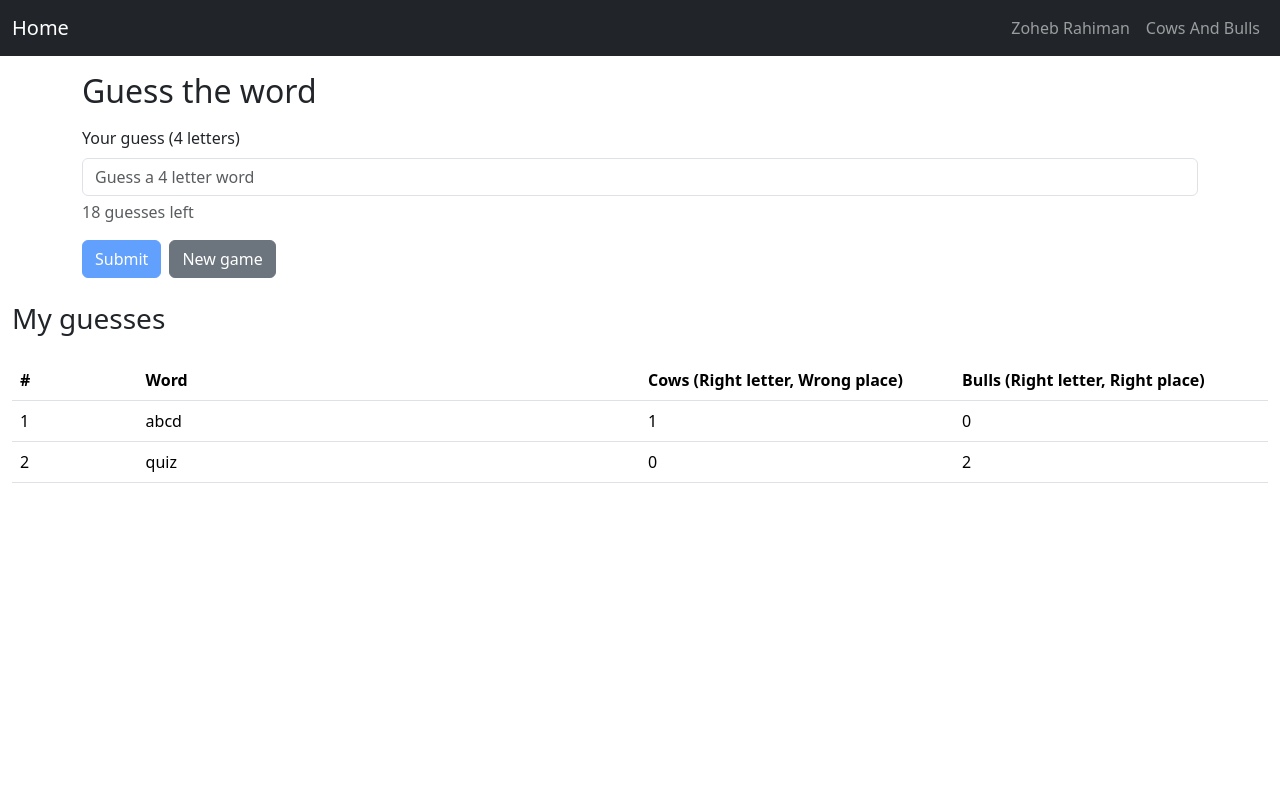
accessibility › puts focus back in the input after a rejected guess, so it can be corrected
Type "qqqq" into the field labelled "Your guess (4 letters)".
click(640, 177); type("qqqq")  # box [82,158,1198,196]
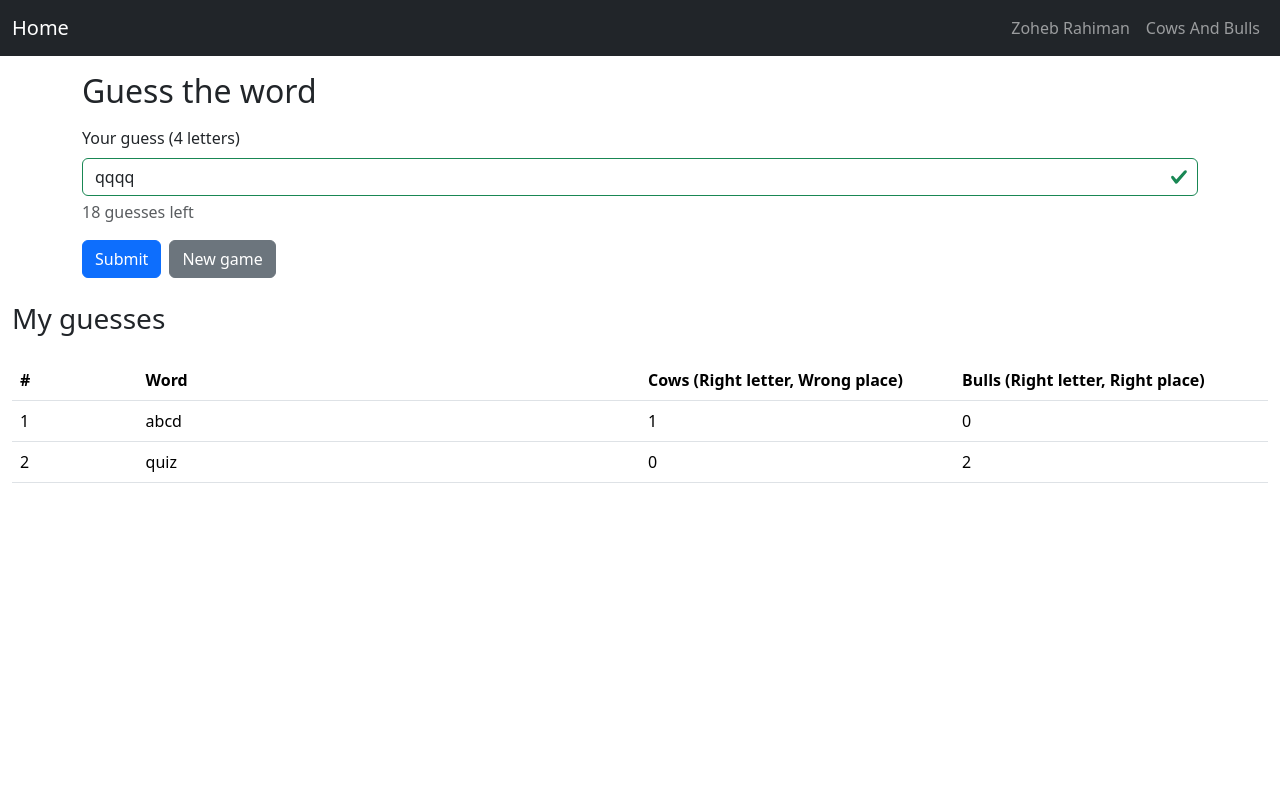
Click the button "Submit".
click(122, 259)  # box [82,240,161,278]
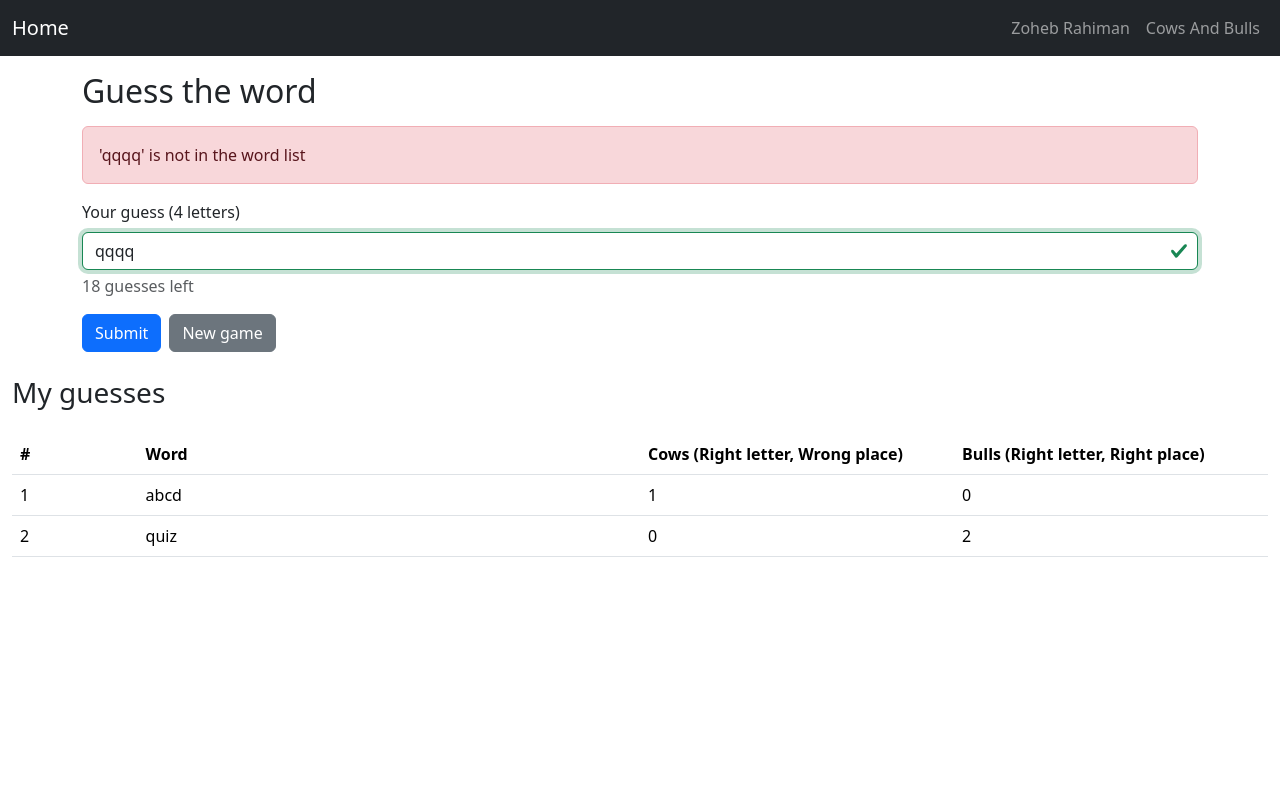
Expected: the message "'qqqq' is not in the word list" is shown, [82,126,1198,184]
